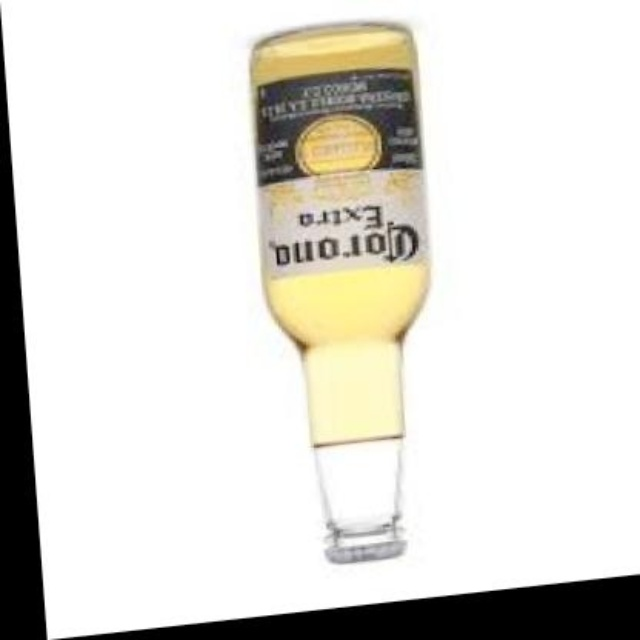trash: (251, 23, 428, 562)
